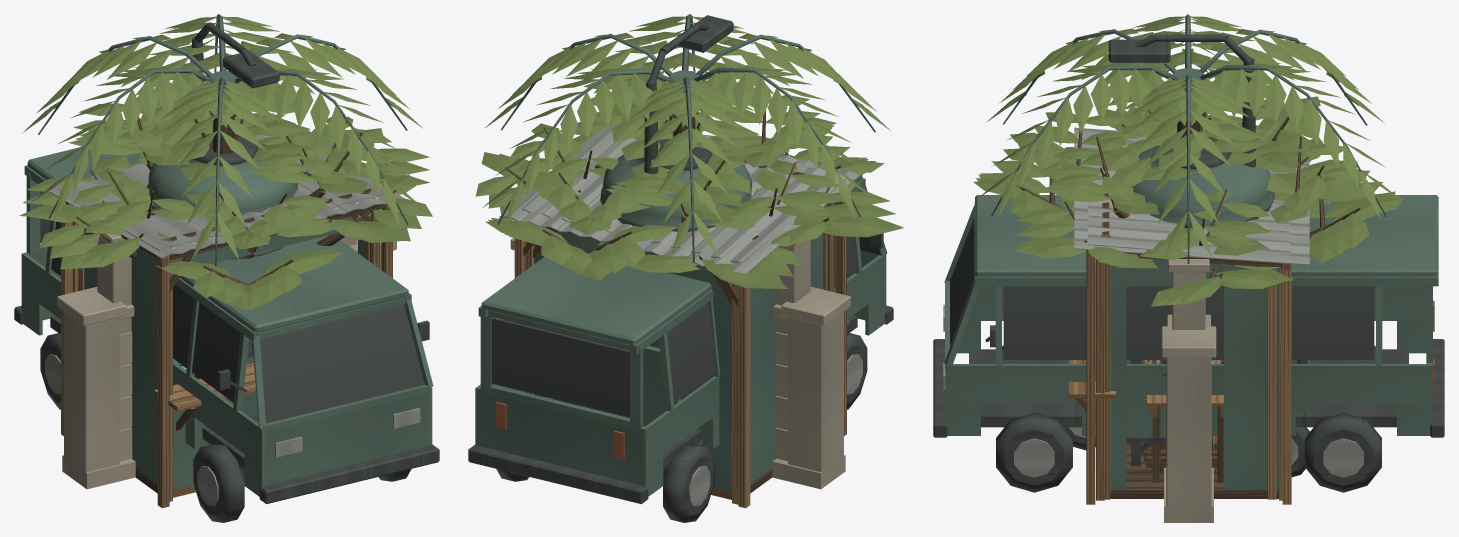
The model's file is swahili-coast.glb.
3 renders of one model, left to right at view 1: azimuth 30°, elevation 25°; view 2: azimuth 150°, elevation 25°; view 3: azimuth 270°, elevation 25°, orthographic.
Visible parts, largest first — view 1: minibus, palm, broadleaf-tree, acacia, kiosk, wall, canopy, water-tank, market-stall, gate, street-lamp; view 2: minibus, palm, broadleaf-tree, kiosk, acacia, wall, market-stall, canopy, water-tank, street-lamp, gate, three-wheeler; view 3: minibus, palm, kiosk, broadleaf-tree, acacia, market-stall, wall, water-tank, canopy, street-lamp, gate, three-wheeler.
Boxes of the visible parts, <box> form: minibus: <box>14,147,439,522</box>; palm: <box>21,14,424,266</box>; broadleaf-tree: <box>68,81,391,258</box>; acacia: <box>19,108,432,309</box>; kiosk: <box>49,135,405,501</box>; wall: <box>57,239,396,489</box>; canopy: <box>61,197,392,508</box>; water-tank: <box>146,134,297,379</box>; market-stall: <box>70,156,384,370</box>; gate: <box>93,233,356,482</box>; street-lamp: <box>190,22,279,115</box>; minibus: <box>468,153,893,522</box>; palm: <box>482,14,890,262</box>; broadleaf-tree: <box>510,71,842,234</box>; kiosk: <box>499,131,859,504</box>; acacia: <box>475,109,903,288</box>; wall: <box>510,238,850,489</box>; market-stall: <box>521,126,846,290</box>; canopy: <box>514,186,847,508</box>; water-tank: <box>600,138,751,231</box>; street-lamp: <box>644,15,733,174</box>; gate: <box>772,240,810,482</box>; three-wheeler: <box>558,335,703,445</box>; minibus: <box>933,195,1444,492</box>; palm: <box>976,14,1400,263</box>; kiosk: <box>1068,127,1309,500</box>; broadleaf-tree: <box>1010,85,1367,259</box>; acacia: <box>973,107,1404,306</box>; market-stall: <box>1088,128,1289,499</box>; wall: <box>1161,314,1216,522</box>; water-tank: <box>1131,137,1274,466</box>; canopy: <box>1086,250,1291,504</box>; street-lamp: <box>1108,34,1255,167</box>; gate: <box>1168,259,1209,329</box>; three-wheeler: <box>1064,360,1318,477</box>.
Size of the model in its own units: 3.93 by 3.83 by 4.3.
1 material, 1 textured.
